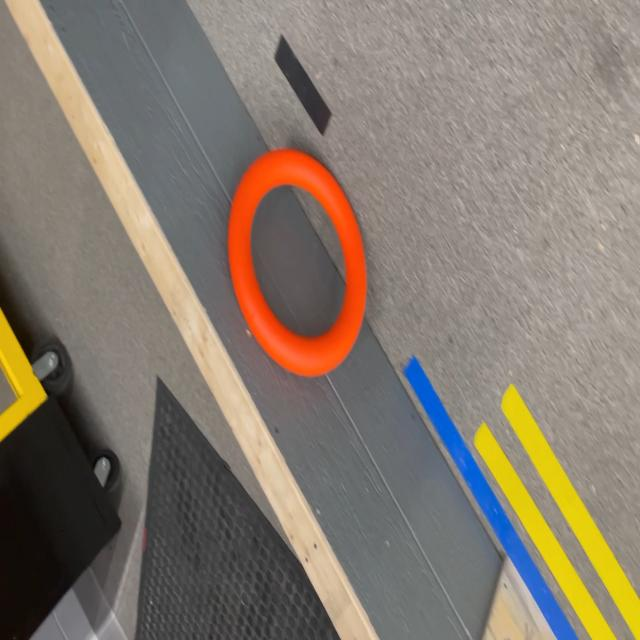note: (228, 150, 366, 378)
